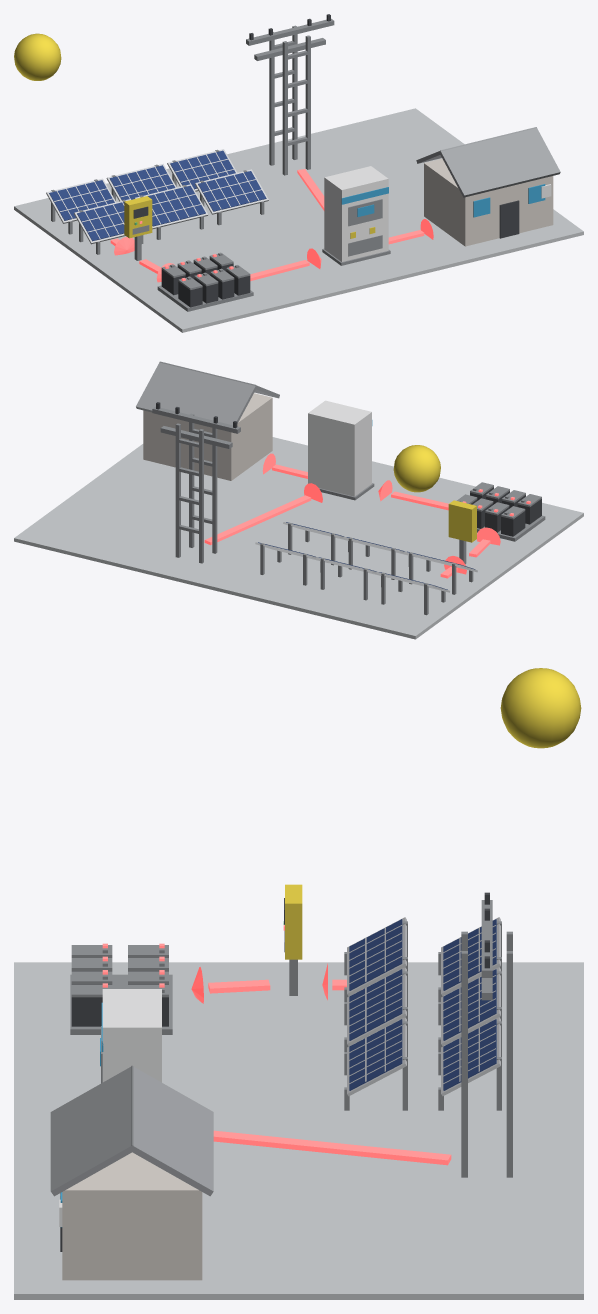
The model's file is SistemSolar.glb.
3 renders of one model, top to bottom at view 1: azimuth 30°, elevation 25°; view 2: azimuth 150°, elevation 25°; view 3: azimuth 270°, elevation 25°, orthographic. The views are drawn at different scales.
Visible parts, largest first — view 1: Tanah, Rumah, SusunanPanel, Penyongsang, MenaraGrid, PekBateri, AnakPanahAliran, Matahari, PengawalCas; view 2: Tanah, Rumah, Penyongsang, MenaraGrid, SusunanPanel, PekBateri, AnakPanahAliran, Matahari, PengawalCas; view 3: Tanah, Rumah, SusunanPanel, PekBateri, Penyongsang, Matahari, MenaraGrid, AnakPanahAliran, PengawalCas.
Part boxes in pixels (bbox=[...]): Tanah: bbox=[14, 108, 583, 332]; Rumah: bbox=[416, 127, 560, 246]; SusunanPanel: bbox=[46, 149, 268, 254]; Penyongsang: bbox=[322, 166, 390, 265]; MenaraGrid: bbox=[246, 14, 334, 175]; PekBateri: bbox=[157, 252, 253, 311]; AnakPanahAliran: bbox=[110, 169, 433, 282]; Matahari: bbox=[14, 33, 61, 80]; PengawalCas: bbox=[124, 196, 152, 260]; Tanah: bbox=[14, 437, 583, 639]; Rumah: bbox=[136, 361, 279, 480]; Penyongsang: bbox=[308, 400, 374, 500]; MenaraGrid: bbox=[152, 402, 240, 563]; SusunanPanel: bbox=[255, 522, 477, 615]; PekBateri: bbox=[456, 482, 545, 541]; AnakPanahAliran: bbox=[204, 453, 500, 578]; Matahari: bbox=[393, 445, 440, 492]; PengawalCas: bbox=[448, 500, 476, 564]; Tanah: bbox=[14, 962, 583, 1299]; Rumah: bbox=[50, 1065, 213, 1280]; SusunanPanel: bbox=[344, 917, 501, 1110]; PekBateri: bbox=[70, 943, 172, 1034]; Penyongsang: bbox=[100, 989, 161, 1083]; Matahari: bbox=[500, 668, 581, 748]; MenaraGrid: bbox=[461, 892, 512, 1177]; AnakPanahAliran: bbox=[191, 963, 451, 1165]; PengawalCas: bbox=[283, 884, 302, 995].
Size of the model in its own units: 14.95 by 6.42 by 10.6.
